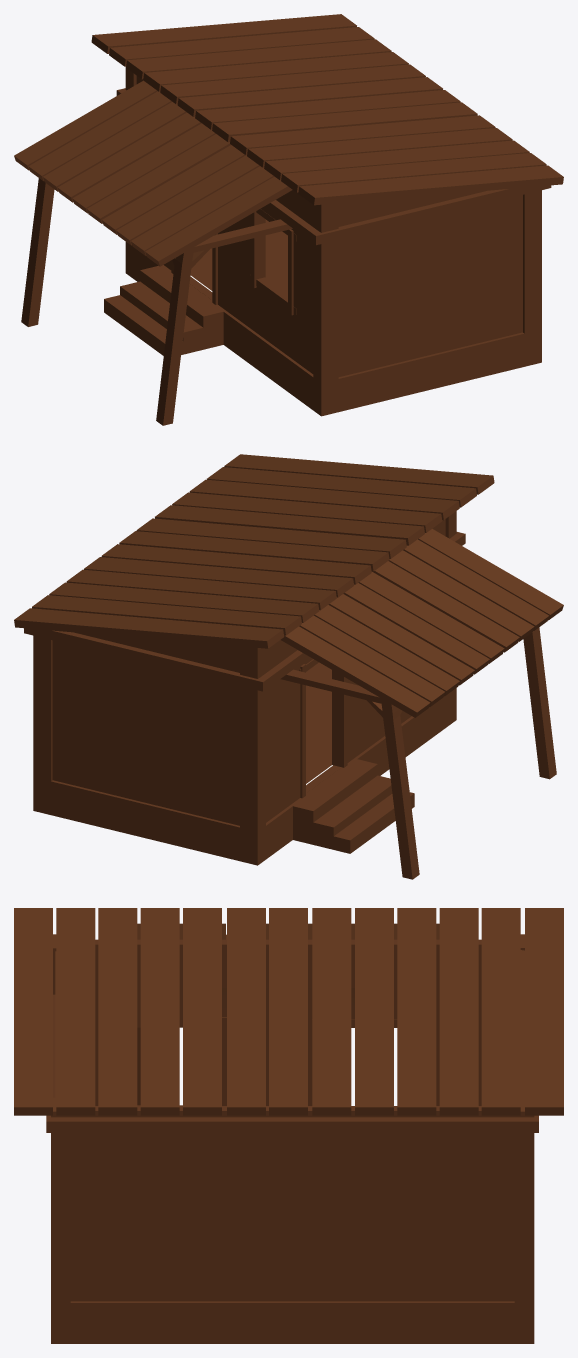
File: Building.fbx
The picture shows the model from 3 angles, top to bottom: view 1: azimuth 30°, elevation 25°; view 2: azimuth 150°, elevation 25°; view 3: azimuth 270°, elevation 25°; orthographic projection. The views are drawn at different scales.
Parts seen in each view (by area): view 1: Cube.003; view 2: Cube.003; view 3: Cube.003.
Part boxes in pixels (box(x1,y1,x2,y2)): Cube.003: box(14, 14, 563, 425); Cube.003: box(14, 454, 563, 879); Cube.003: box(14, 908, 563, 1343).
Size of the model in its own units: 337 by 209 by 359.
